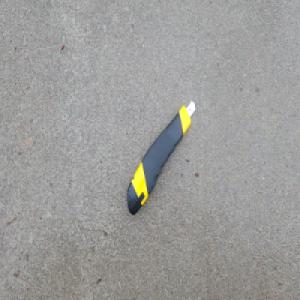Cutter: (126, 100, 195, 217)
